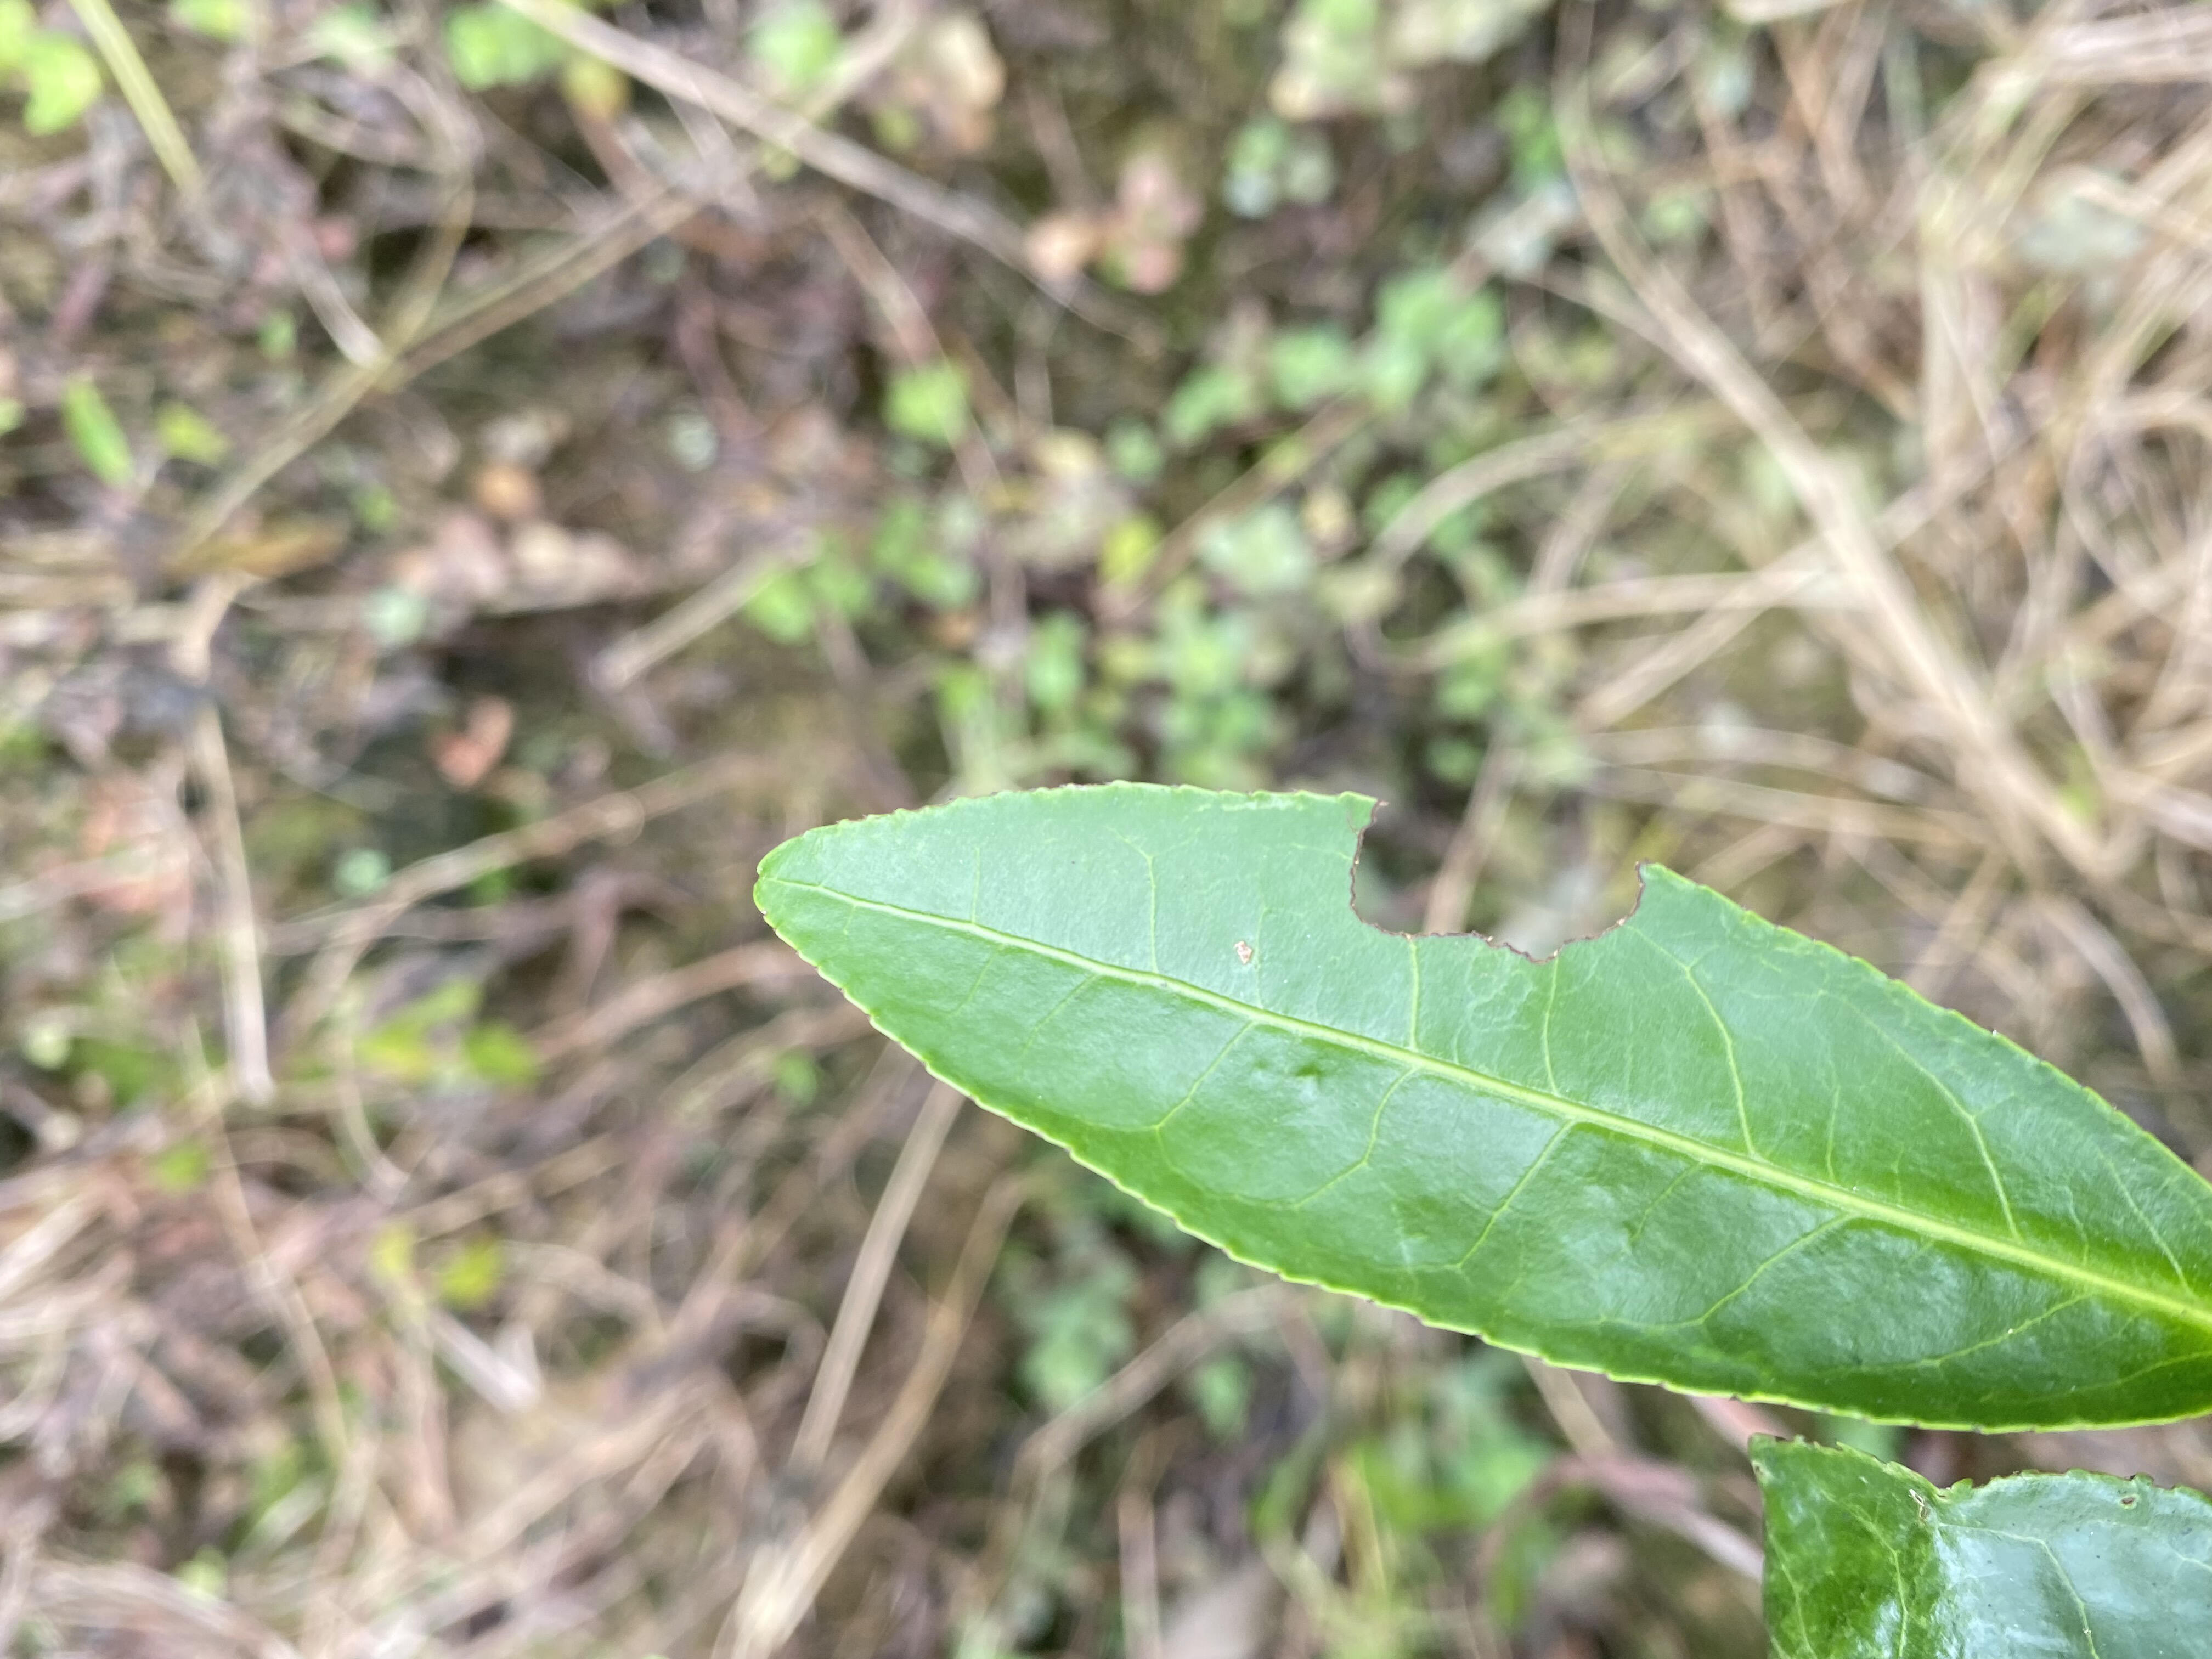chihuo_low: (751, 779, 2207, 1432)
